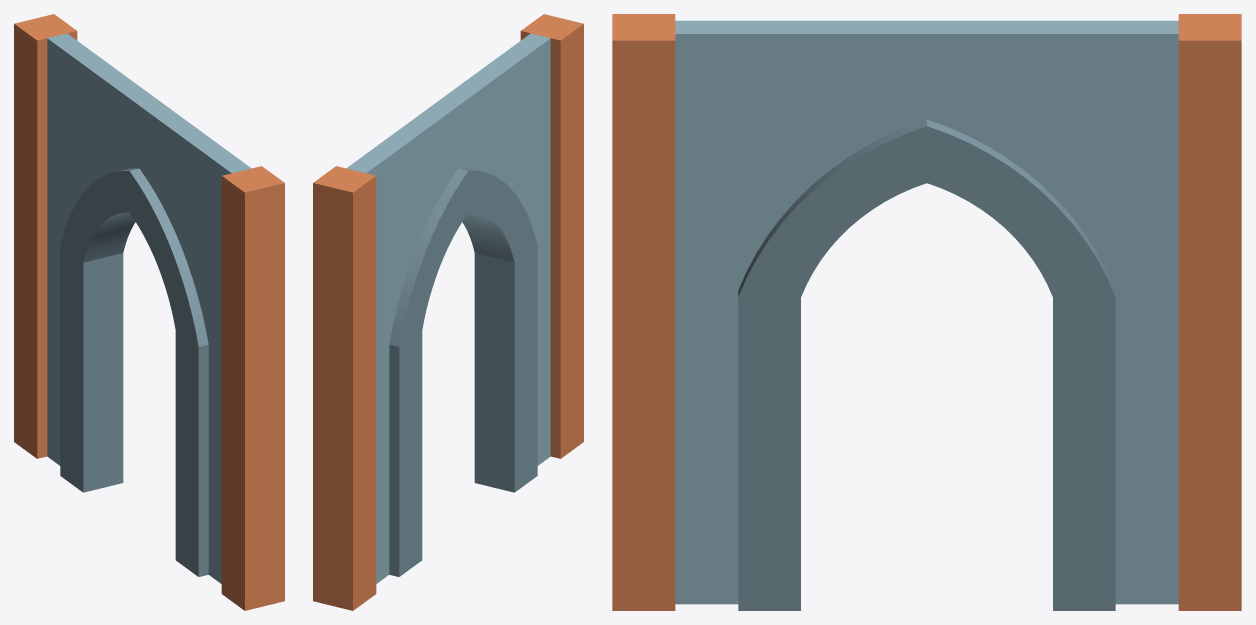
File: wallDoorwayRound.dae
3 views of the same model, side by side, from view 1: azimuth 30°, elevation 25°; view 2: azimuth 150°, elevation 25°; view 3: azimuth 270°, elevation 25° (orthographic). The views are drawn at different scales.
Visible parts, largest first — view 1: wallDoorwayRound; view 2: wallDoorwayRound; view 3: wallDoorwayRound.
Boxes of the visible parts, x1,y1,x2,y2 form: wallDoorwayRound: (14,14,284,610); wallDoorwayRound: (313,14,583,610); wallDoorwayRound: (612,14,1241,610).
Bounding box in the file's own units: 0.1 × 1 × 1.
